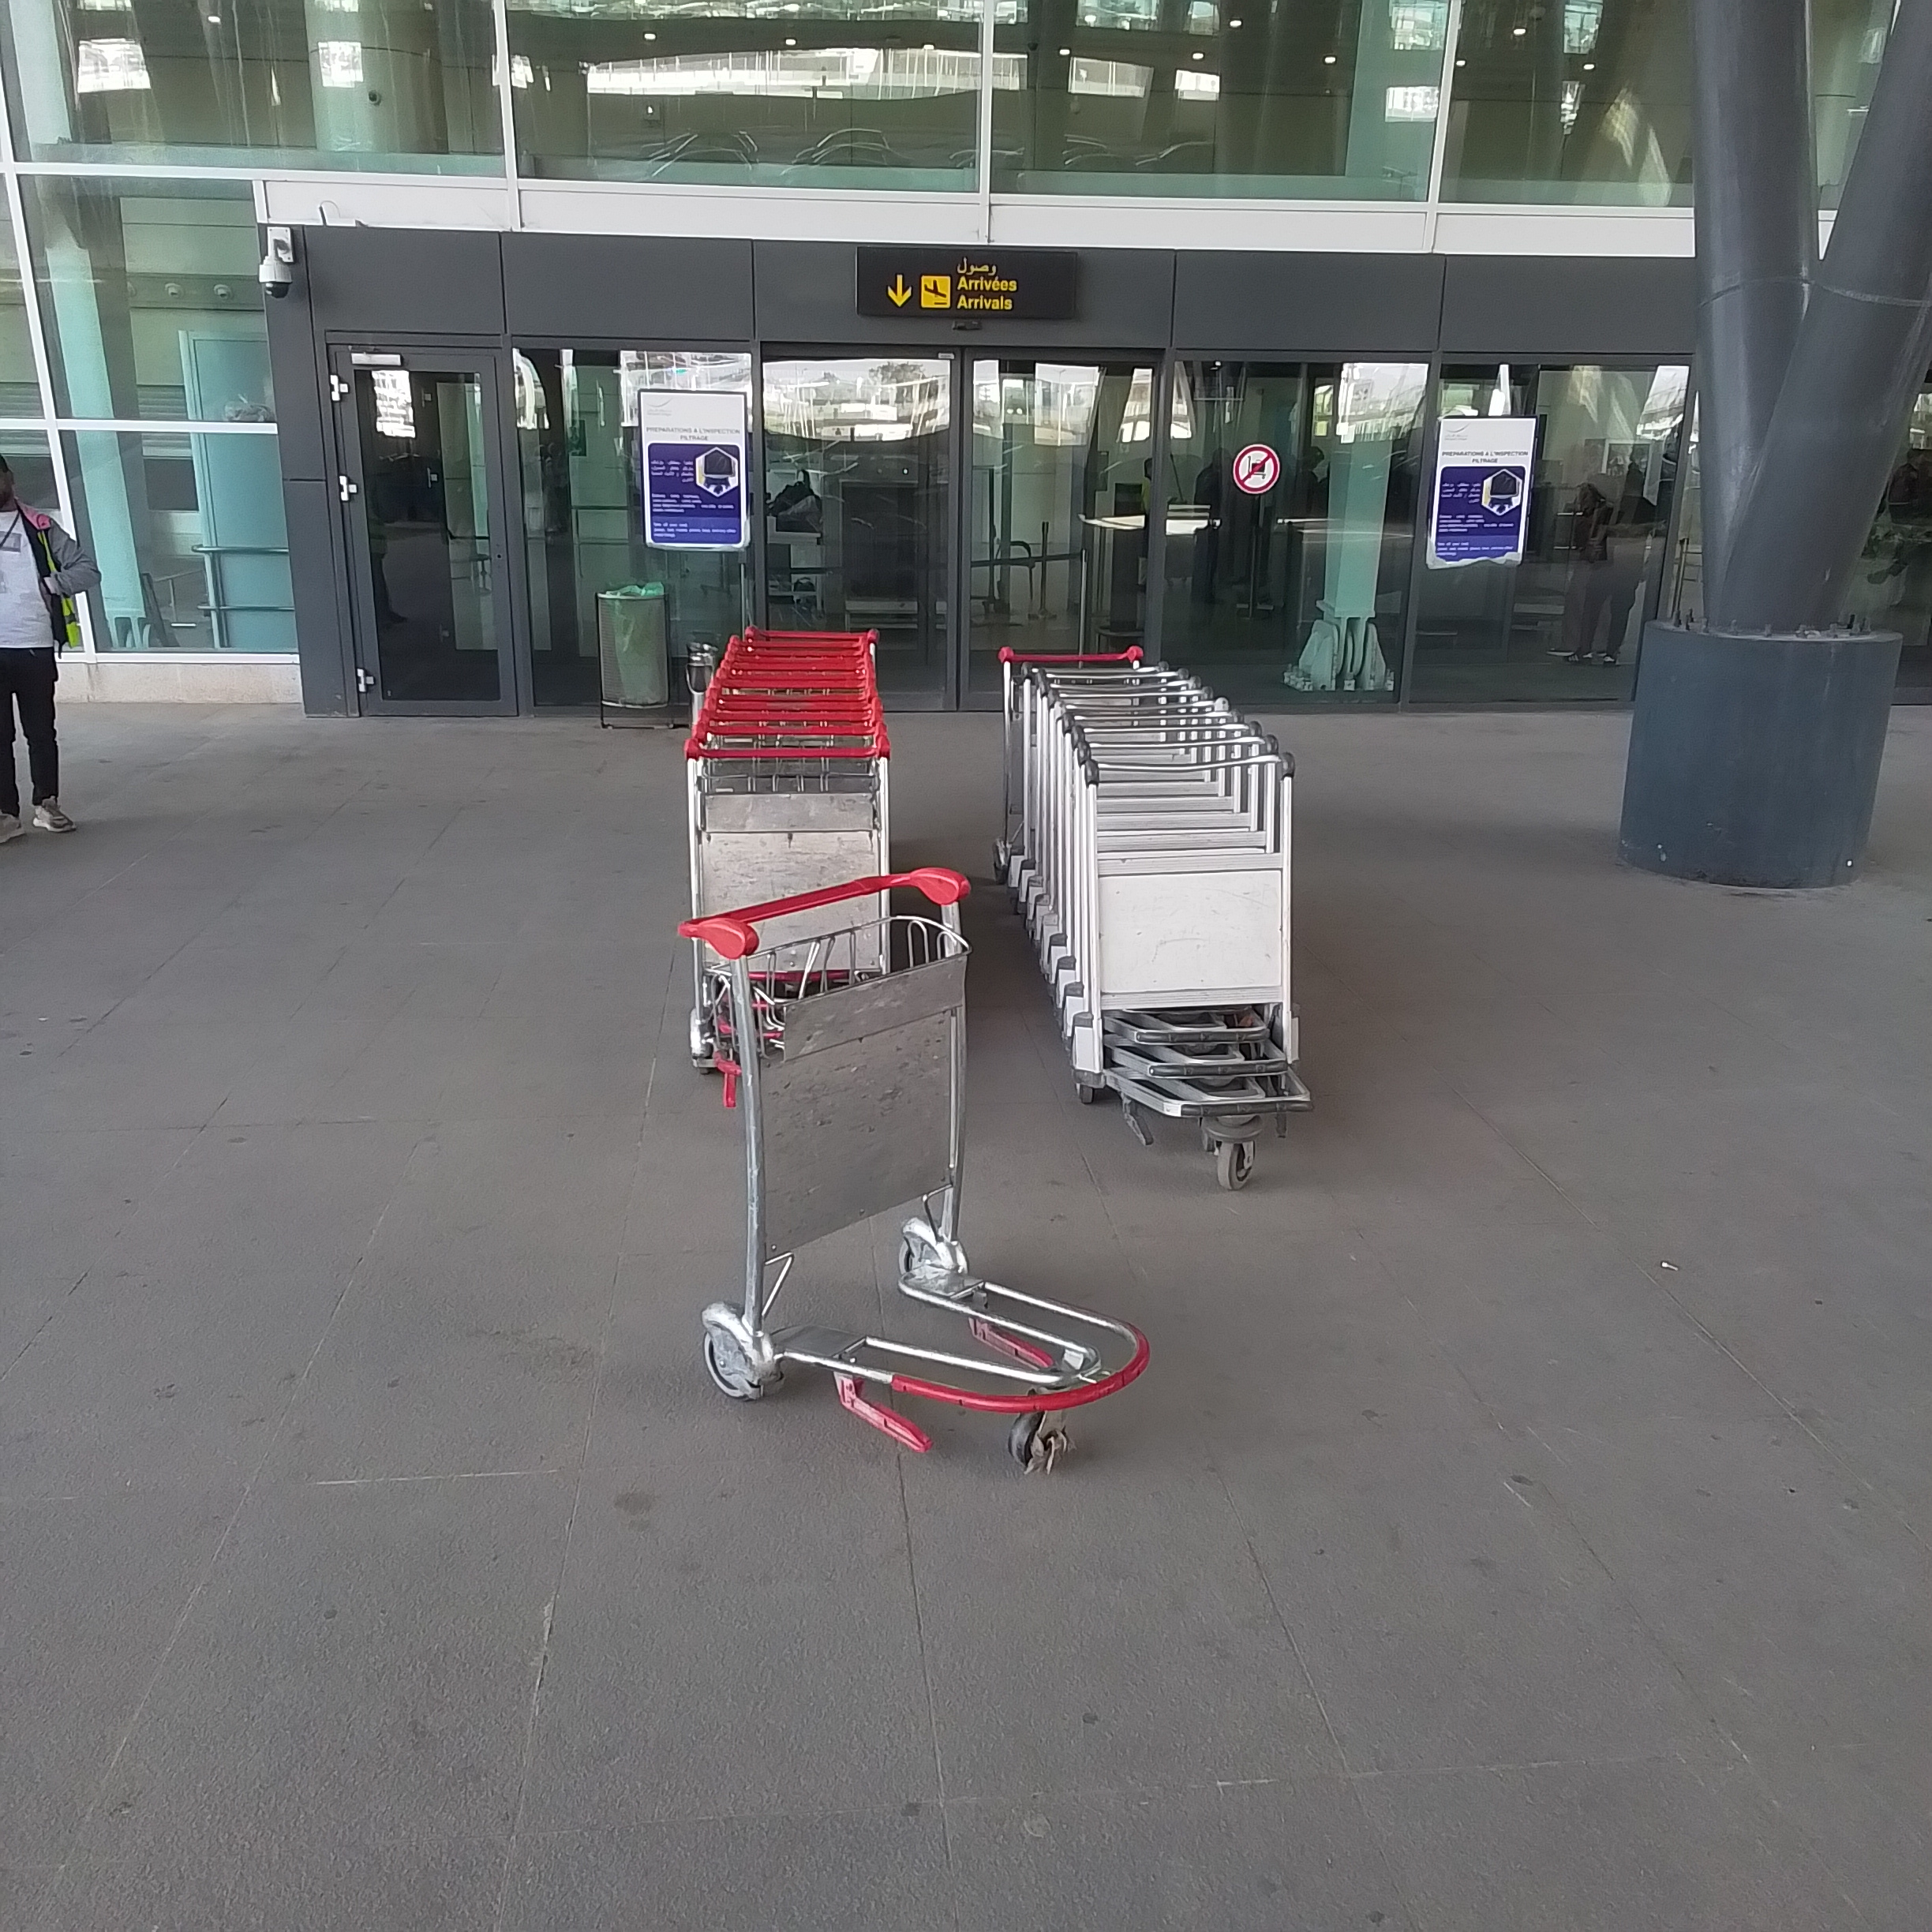airport-trolley: (692, 872, 1123, 1431), (1099, 734, 1306, 1129), (686, 748, 890, 1007)
